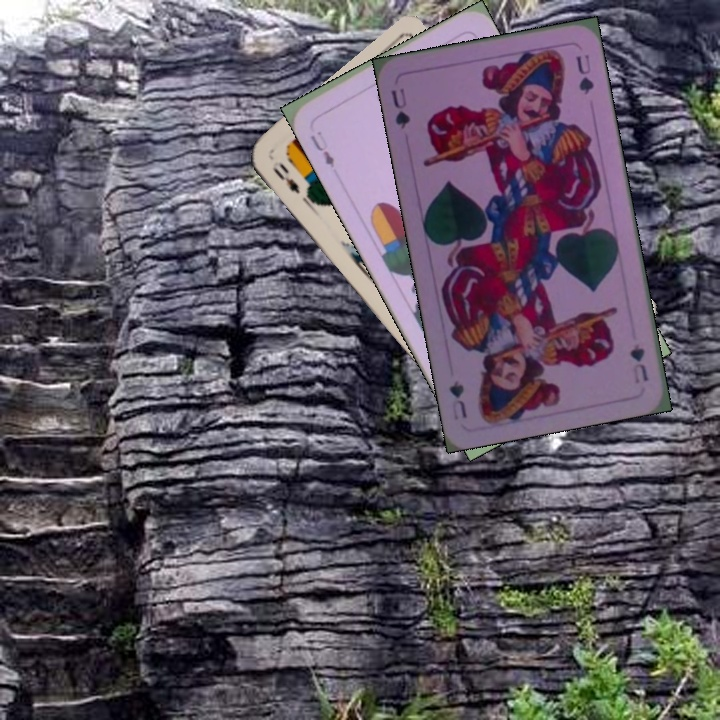EO: (268, 159, 303, 197)
EU: (305, 127, 337, 170)
GU: (387, 84, 413, 132), (625, 340, 651, 386)
